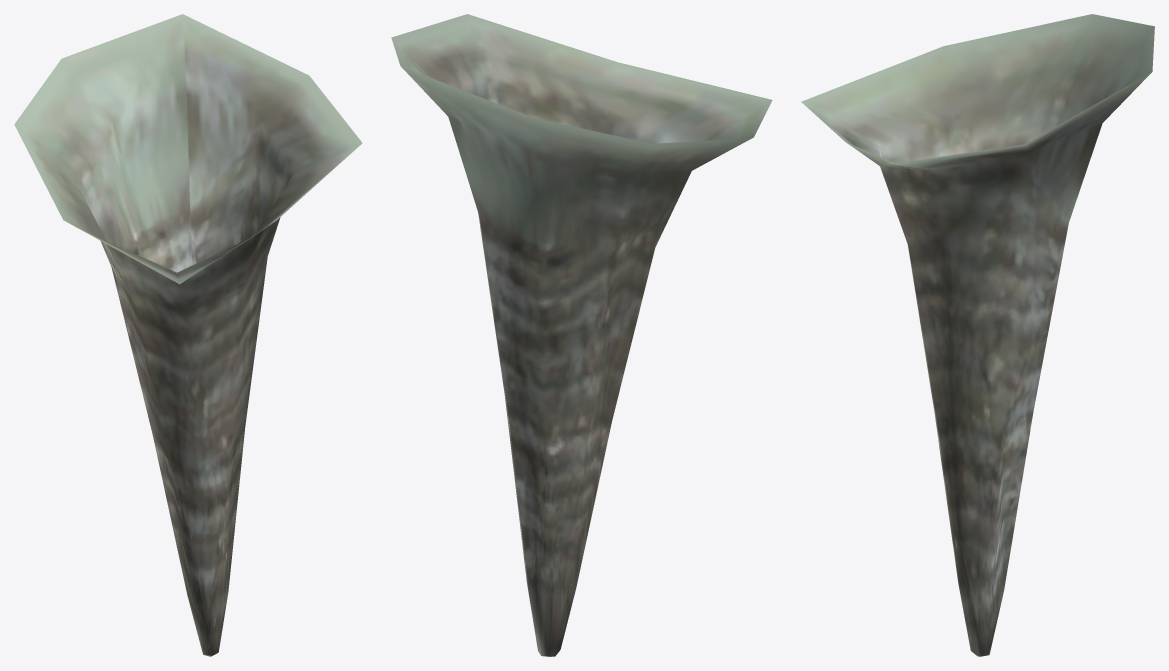
File: TROLLHOLE02_PS-UPPERSTALAG16.fbx
3 renders of one model, left to right at view 1: azimuth 30°, elevation 25°; view 2: azimuth 150°, elevation 25°; view 3: azimuth 270°, elevation 25°, orthographic. The views are drawn at different scales.
Visible parts, largest first — view 1: TROLLHOLE02_PS-UPPERSTALAG16; view 2: TROLLHOLE02_PS-UPPERSTALAG16; view 3: TROLLHOLE02_PS-UPPERSTALAG16.
Part boxes in pixels (x1,y1,x2,y2): TROLLHOLE02_PS-UPPERSTALAG16: [14, 14, 362, 656]; TROLLHOLE02_PS-UPPERSTALAG16: [391, 14, 772, 656]; TROLLHOLE02_PS-UPPERSTALAG16: [801, 14, 1154, 656].
Size of the model in its own units: 11370 by 21838 by 11437.
1 material, 1 textured.
